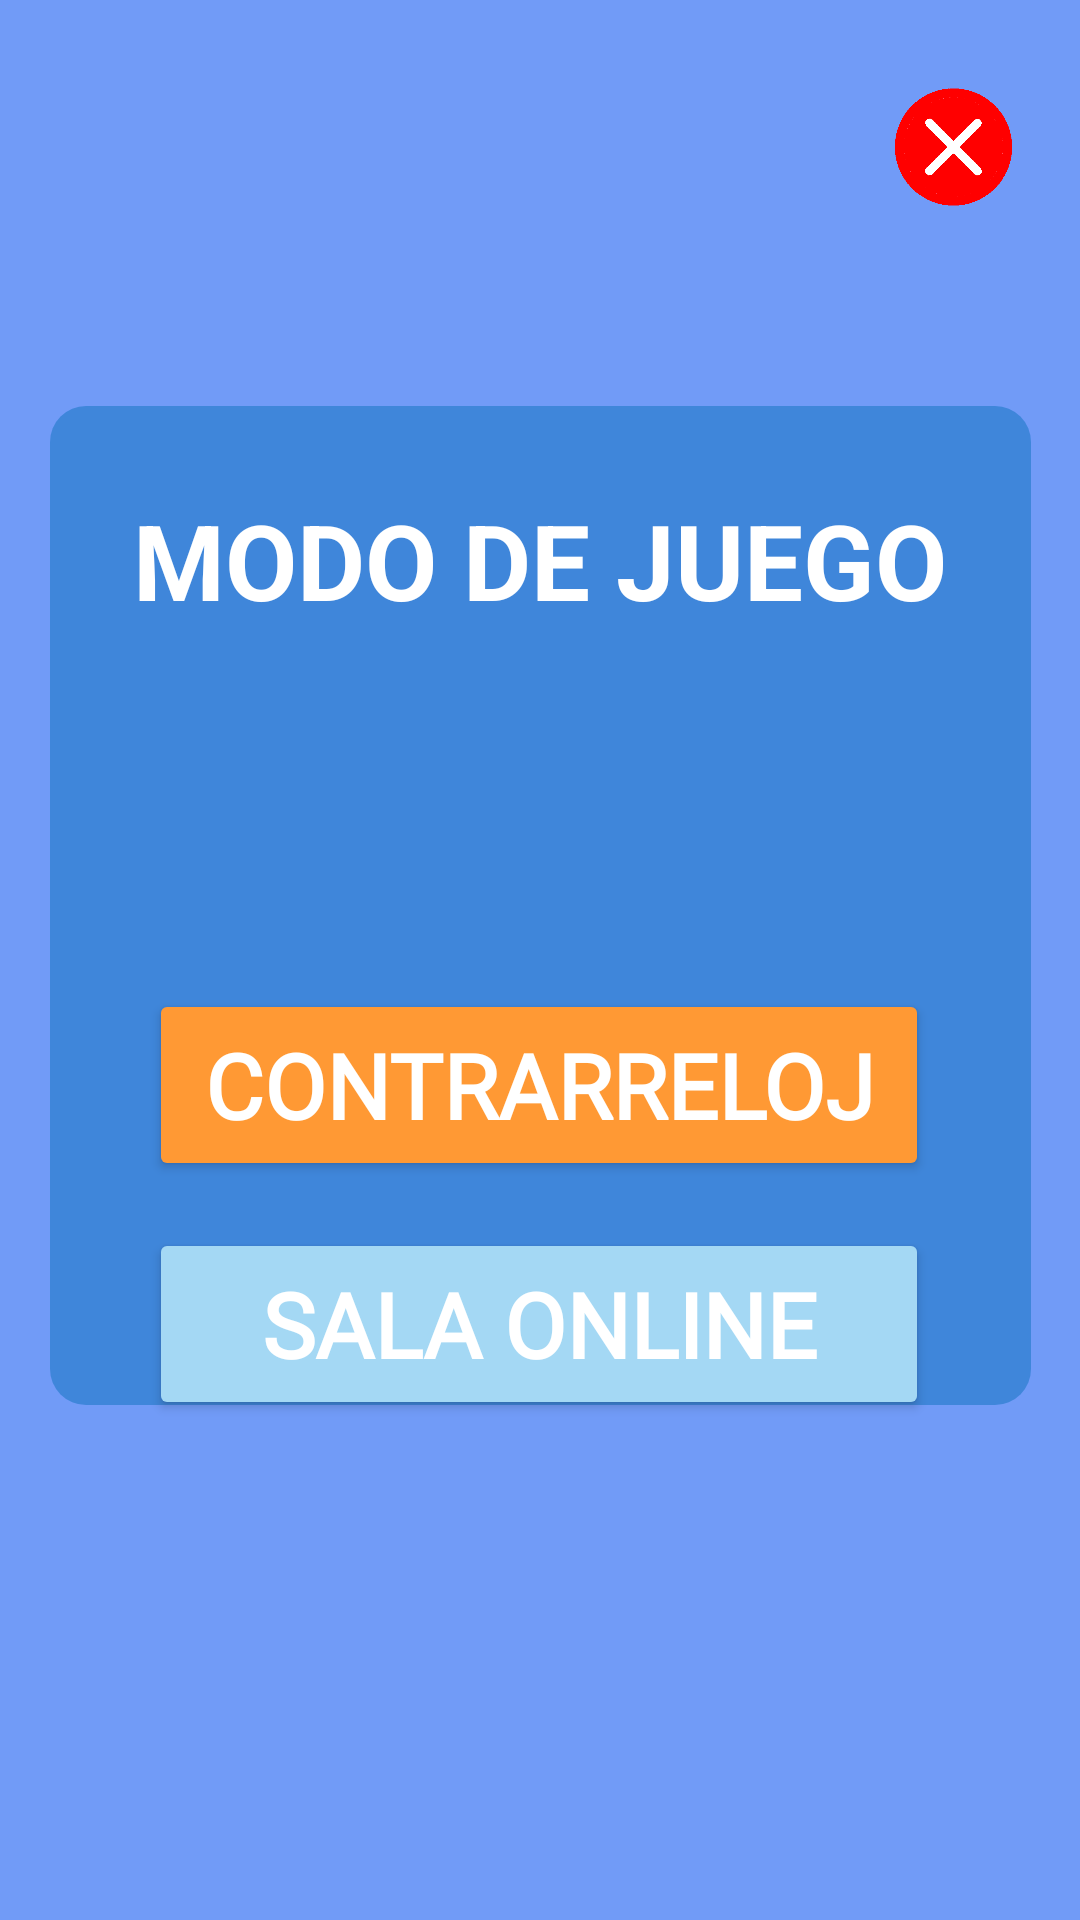

Named icons in this screenshot (1080×1920) and their bounding boxes, BBox(x1, y1, x2, y2):
cruceta: BBox(895, 88, 1012, 206)
